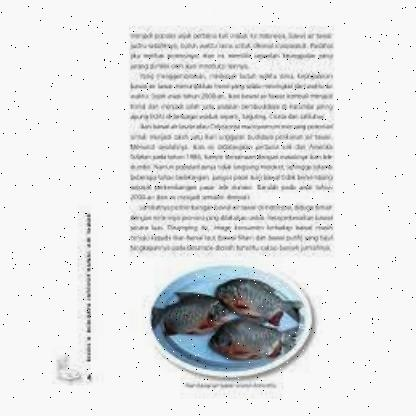ikan-pacu: (205, 316, 291, 362), (216, 278, 294, 318), (148, 295, 218, 333)
